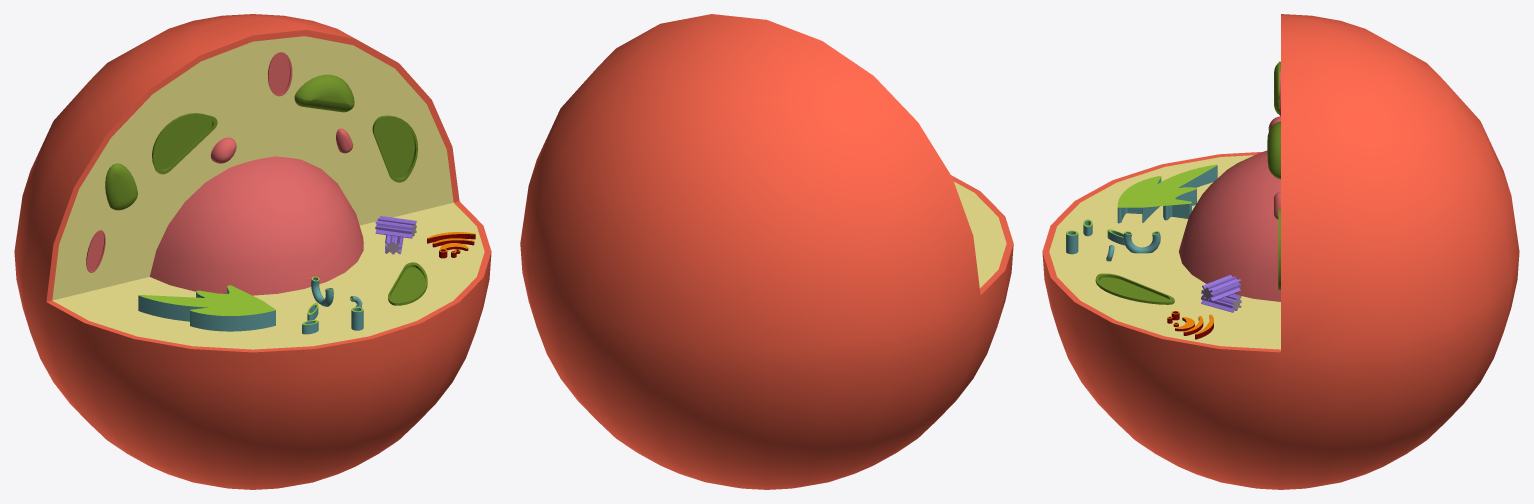
File: Animal Cell.fbx
3 renders of one model, left to right at view 1: azimuth 30°, elevation 25°; view 2: azimuth 150°, elevation 25°; view 3: azimuth 270°, elevation 25°, orthographic. The views are drawn at different scales.
Visible parts, largest first — view 1: Group6, Group7, Group1, Group3, Group5, Group8, Group2, Group4; view 2: Group6, Group7; view 3: Group6, Group7, Group1, Group5, Group3, Group2, Group4.
Part boxes in pixels (box(x1,y1,x2,y2)): Group6: box(14, 14, 491, 489); Group7: box(52, 36, 484, 349); Group1: box(149, 156, 363, 295); Group3: box(105, 74, 427, 305); Group5: box(138, 276, 363, 334); Group8: box(86, 52, 460, 272); Group2: box(375, 216, 416, 254); Group4: box(427, 232, 475, 250); Group6: box(520, 14, 1013, 489); Group7: box(954, 181, 1006, 288); Group6: box(1042, 14, 1519, 489); Group7: box(1049, 155, 1280, 349); Group1: box(1178, 150, 1280, 301); Group5: box(1066, 164, 1217, 261); Group3: box(1095, 61, 1280, 304); Group2: box(1201, 275, 1241, 312); Group4: box(1175, 314, 1213, 339).
Size of the model in its own units: 3.5 by 3.5 by 3.5.
